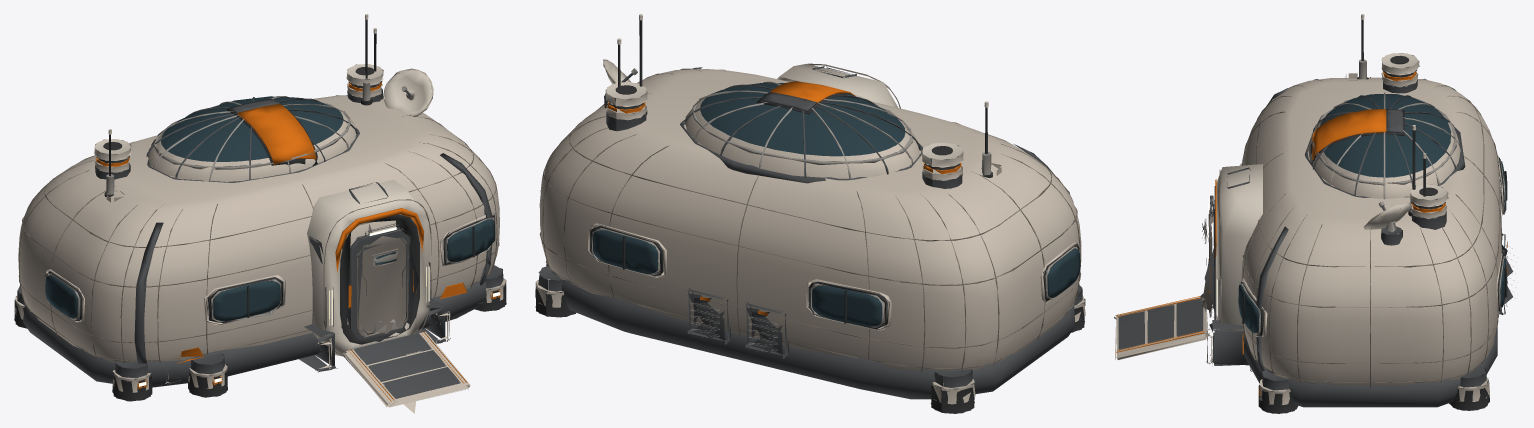
The model's file is habitat.glb.
3 renders of one model, left to right at view 1: azimuth 30°, elevation 25°; view 2: azimuth 150°, elevation 25°; view 3: azimuth 270°, elevation 25°, orthographic. The views are drawn at different scales.
Visible parts, largest first — view 1: habitat; view 2: habitat; view 3: habitat.
Boxes of the visible parts, x1,y1,x2,y2 form: habitat: [14, 14, 506, 413]; habitat: [535, 14, 1085, 413]; habitat: [1114, 14, 1515, 413].
Bounding box in the file's own units: 14 × 8.54 × 11.57.
